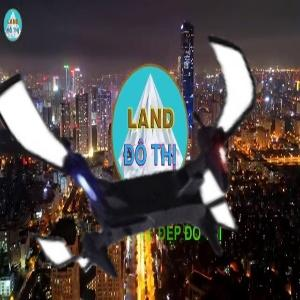drone: (1, 9, 289, 297)
